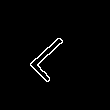L_NE: (26, 27, 84, 83)
